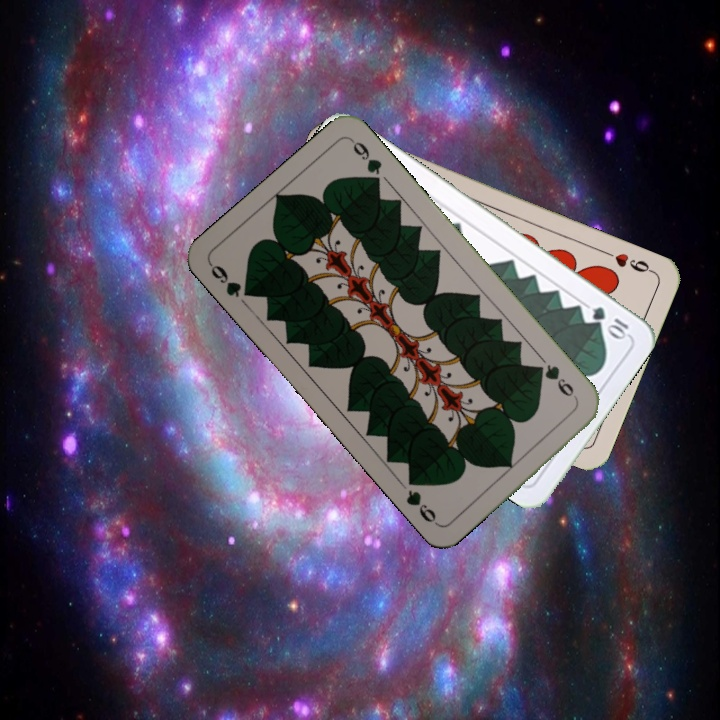G10: (588, 302, 631, 341)
G9: (205, 260, 258, 301), (532, 360, 581, 404)
H9: (600, 246, 657, 276)
